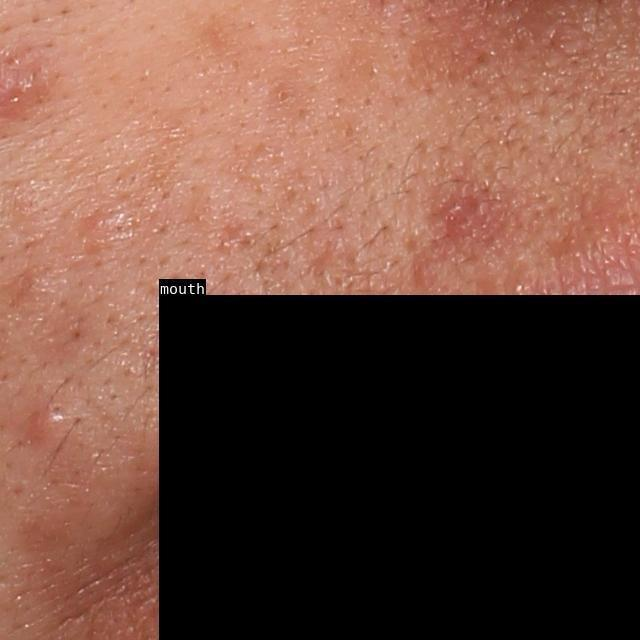comedo: (275, 84, 299, 110)
papule: (19, 405, 64, 449)
